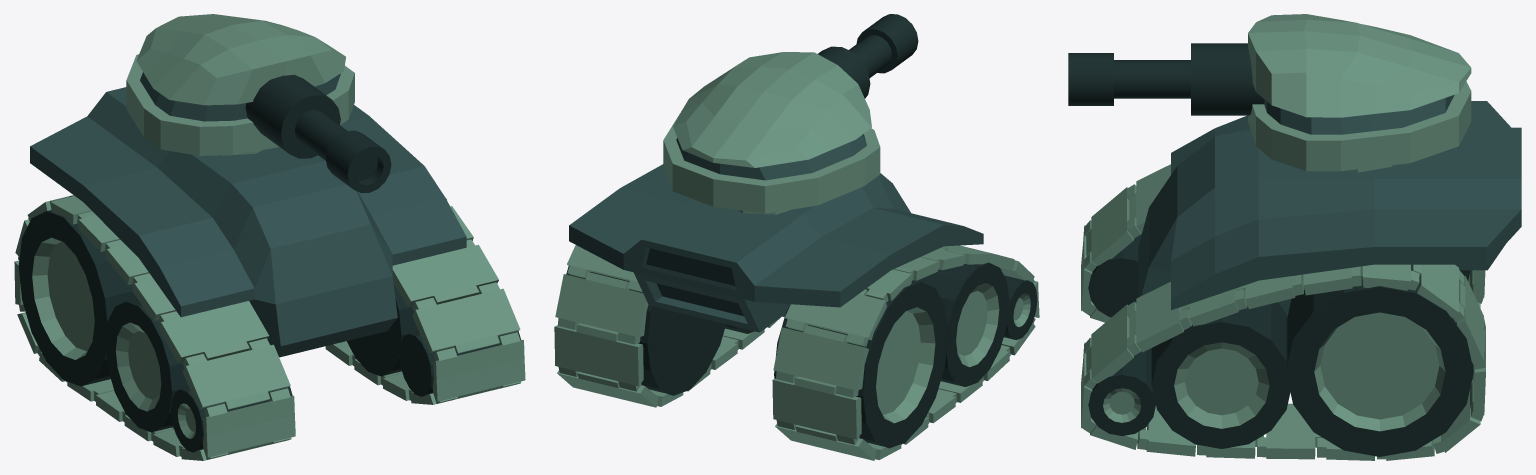
Rendered from enemigo1.obj.
The picture shows the model from 3 angles, left to right: view 1: azimuth 30°, elevation 25°; view 2: azimuth 150°, elevation 25°; view 3: azimuth 270°, elevation 25°; orthographic projection. The views are drawn at different scales.
Visible parts, largest first — view 1: tank_base1, tank_track1, tank_top1, Cylinder, Cylinder.001, Cylinder.003, Cylinder.002; view 2: tank_base1, tank_track1, tank_top1, Cylinder, Cylinder.001, Cylinder.003, Cylinder.002; view 3: tank_base1, tank_top1, tank_track1, Cylinder, Cylinder.001, Cylinder.003, Cylinder.002.
Boxes of the visible parts, x1,y1,x2,y2 form: tank_base1: (30, 87, 466, 357); tank_track1: (14, 195, 525, 460); tank_top1: (126, 14, 354, 155); Cylinder: (18, 210, 137, 386); Cylinder.001: (105, 283, 418, 432); Cylinder.003: (245, 74, 391, 193); Cylinder.002: (171, 331, 520, 452); tank_base1: (569, 164, 983, 332); tank_track1: (554, 245, 1039, 460); tank_top1: (663, 52, 880, 214); Cylinder: (566, 266, 947, 448); Cylinder.001: (725, 262, 1009, 386); Cylinder.003: (818, 14, 918, 98); Cylinder.002: (1004, 275, 1037, 339); tank_base1: (1138, 101, 1521, 316); tank_top1: (1248, 14, 1471, 172); tank_track1: (1081, 164, 1485, 460); Cylinder: (1287, 270, 1473, 456); Cylinder.001: (1151, 302, 1291, 448); Cylinder.003: (1068, 43, 1264, 115); Cylinder.002: (1088, 233, 1155, 435).
Size of the model in its own units: 6.68 by 6.59 by 7.78.
